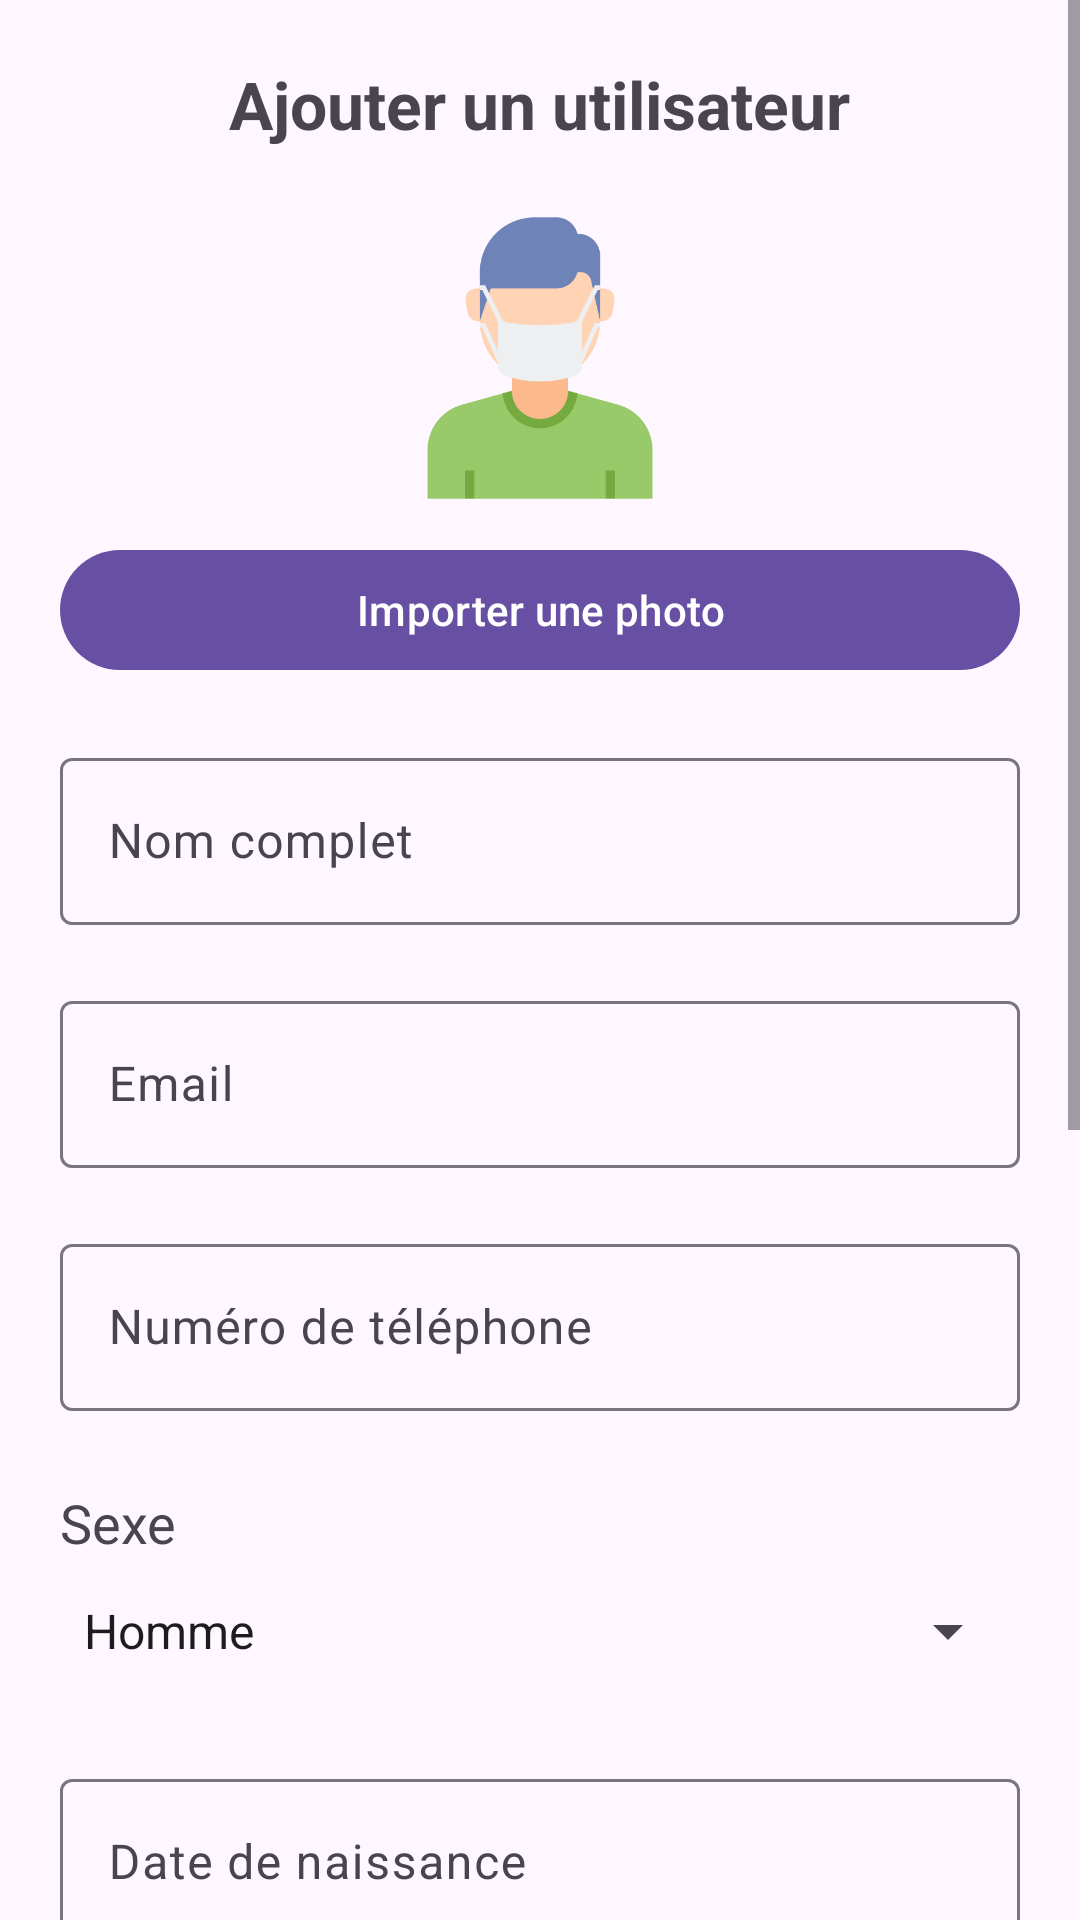

Named icons in this screenshot (1080*1920) and their centers, point (x, y):
patient: point (540, 358)
